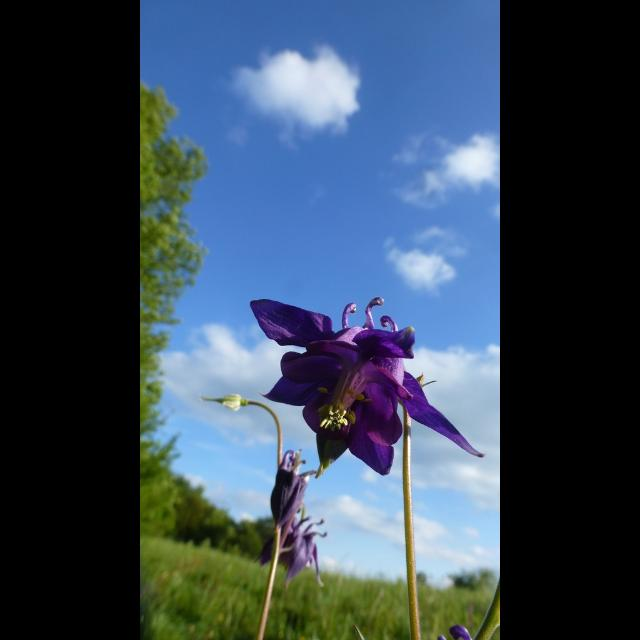Flower: (255, 305, 462, 481), (249, 516, 331, 590), (272, 444, 316, 530), (438, 624, 476, 640)
